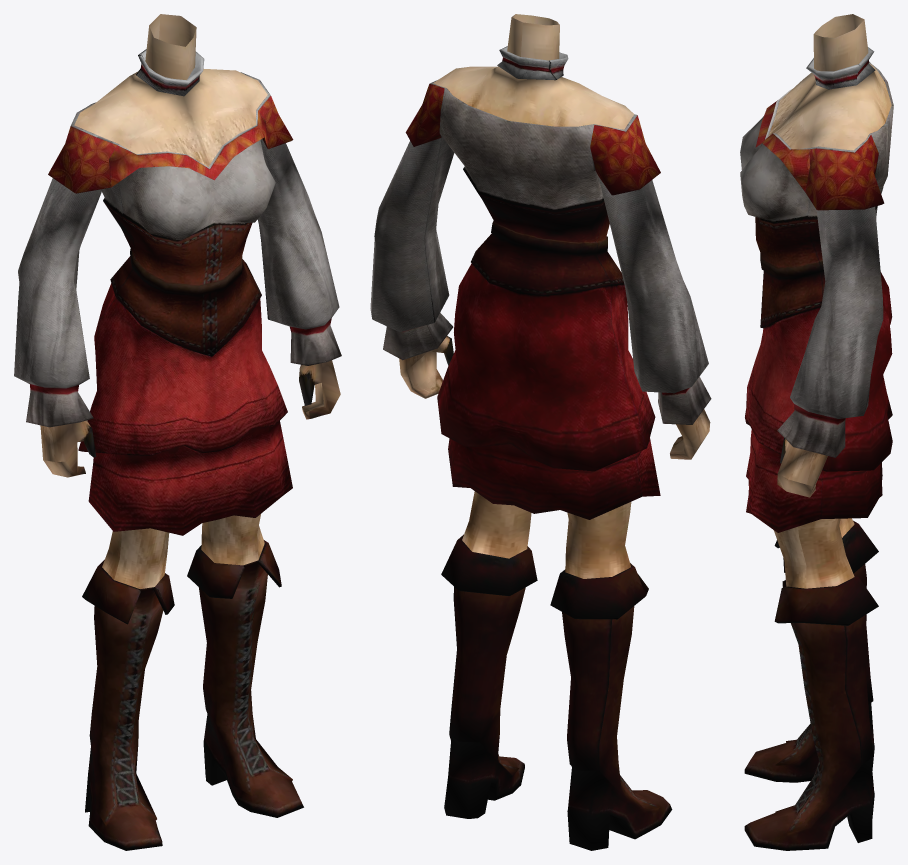
File: GS_SLAV_BABE_02_KOZA.glb
3 renders of one model, left to right at view 1: azimuth 30°, elevation 25°; view 2: azimuth 150°, elevation 25°; view 3: azimuth 270°, elevation 25°, orthographic. The views are drawn at different scales.
Visible parts, largest first — view 1: GS_SLAV_BABE_02_KOZA; view 2: GS_SLAV_BABE_02_KOZA; view 3: GS_SLAV_BABE_02_KOZA.
Part boxes in pixels (x1,y1,x2,y2): GS_SLAV_BABE_02_KOZA: (14, 14, 341, 850); GS_SLAV_BABE_02_KOZA: (370, 14, 711, 850); GS_SLAV_BABE_02_KOZA: (740, 14, 893, 850).
Size of the model in its own units: 0.6944 by 1.67 by 0.2963.
Materials: 2 (2 with a texture image).
